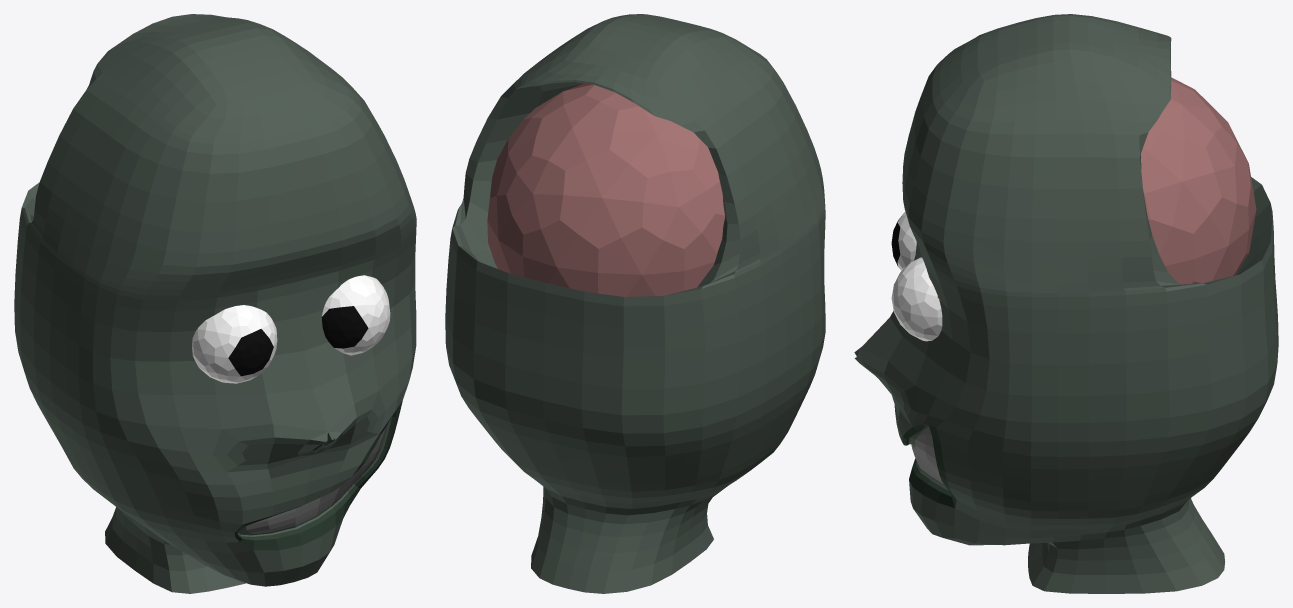
File: Tete_Pickup.fbx
3 views of the same model, side by side, from view 1: azimuth 30°, elevation 25°; view 2: azimuth 150°, elevation 25°; view 3: azimuth 270°, elevation 25° (orthographic). The views are drawn at different scales.
Visible parts, largest first — view 1: zombie; view 2: zombie; view 3: zombie.
Part boxes in pixels (bbox=[...]): zombie: bbox=[14, 14, 416, 593]; zombie: bbox=[445, 14, 825, 593]; zombie: bbox=[854, 14, 1278, 593].
Size of the model in its own units: 34.28 by 53.45 by 38.78.
Materials: 1 (1 with a texture image).
